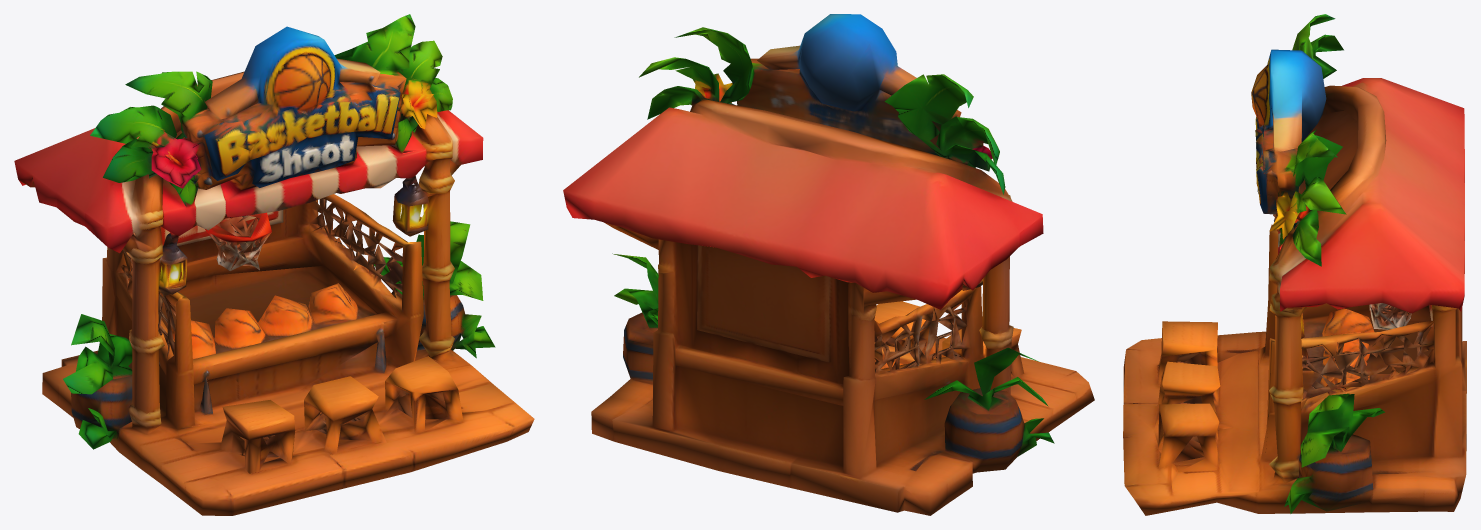
File: basketball shoot 3d model.glb
3 renders of one model, left to right at view 1: azimuth 30°, elevation 25°; view 2: azimuth 150°, elevation 25°; view 3: azimuth 270°, elevation 25°, orthographic. The views are drawn at different scales.
Visible parts, largest first — view 1: tripo_node_2a559680-714f-4871-b2bc-8d49d6014f6d; view 2: tripo_node_2a559680-714f-4871-b2bc-8d49d6014f6d; view 3: tripo_node_2a559680-714f-4871-b2bc-8d49d6014f6d.
Part boxes in pixels (x1,y1,x2,y2): tripo_node_2a559680-714f-4871-b2bc-8d49d6014f6d: (14,14,534,515); tripo_node_2a559680-714f-4871-b2bc-8d49d6014f6d: (563,14,1094,515); tripo_node_2a559680-714f-4871-b2bc-8d49d6014f6d: (1123,14,1466,515).
Size of the model in its own units: 0.9664 by 0.8553 by 0.693.
Materials: 1 (1 with a texture image).
